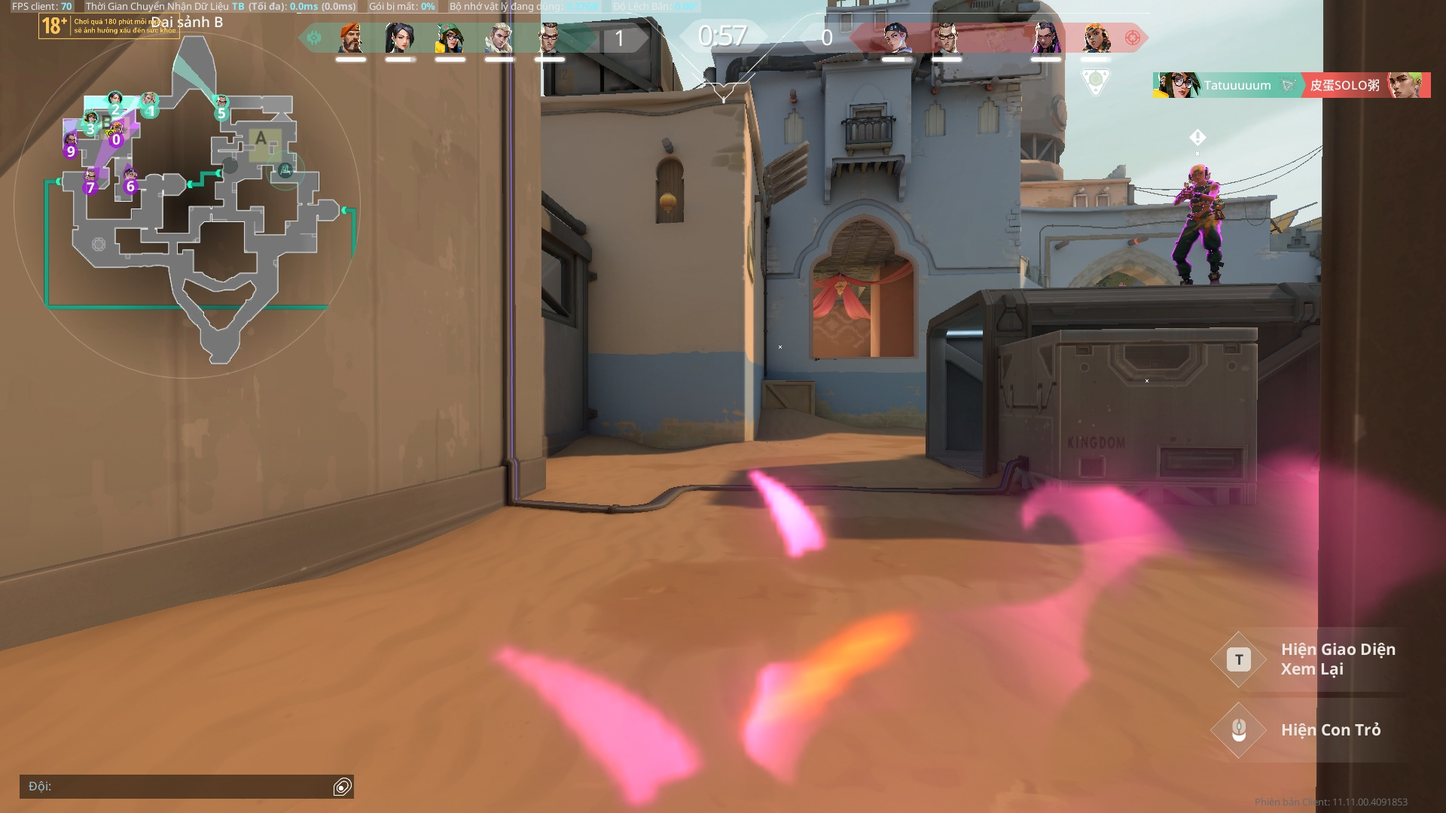body: (1182, 179, 1222, 225)
head: (1187, 158, 1209, 185)
